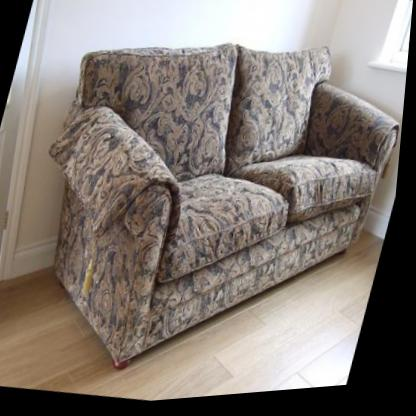Sofa: (1, 0, 414, 414)
